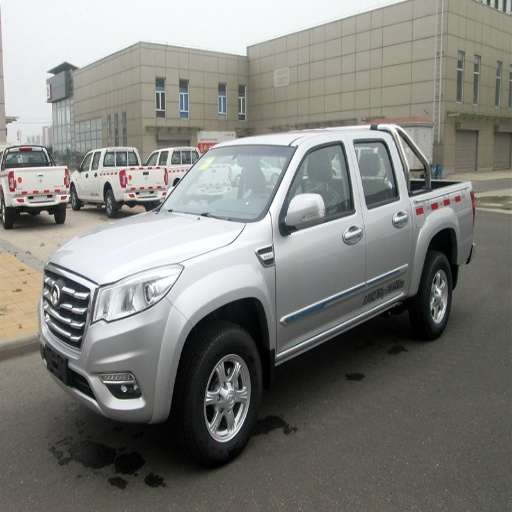front_bumper: (39, 264, 187, 422)
front_glass: (156, 148, 295, 221)
front_left_door: (276, 140, 367, 352)
trunk: (414, 186, 477, 281)
